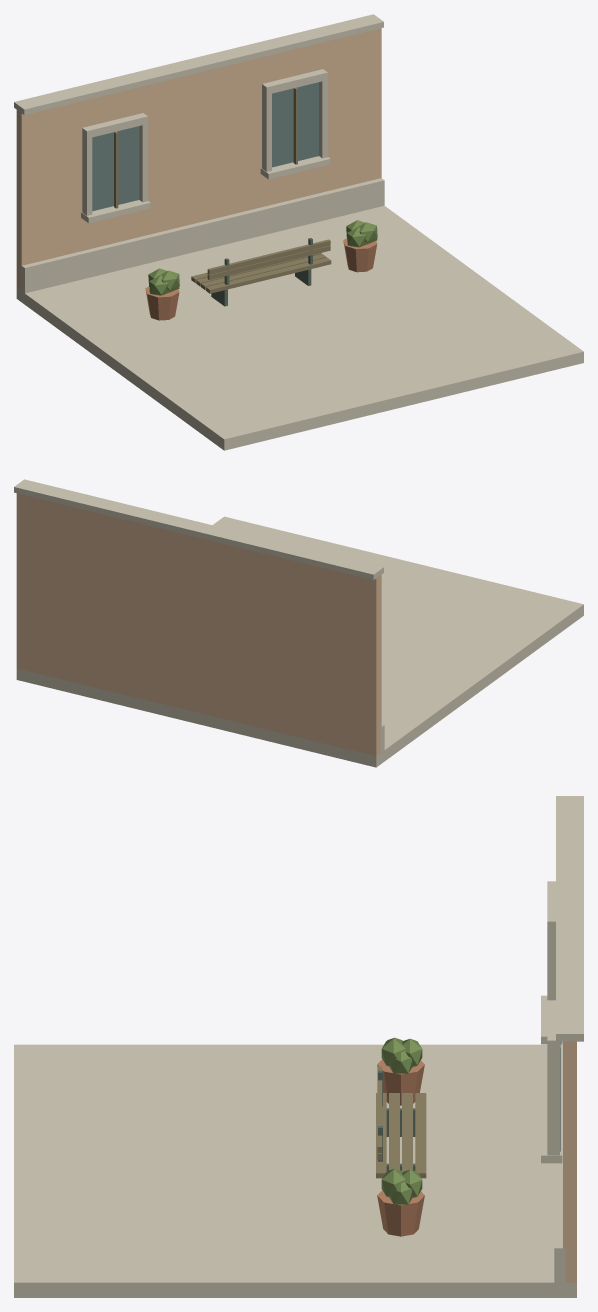
File: district-1-0-1.glb
3 views of the same model, one above another, from view 1: azimuth 30°, elevation 25°; view 2: azimuth 150°, elevation 25°; view 3: azimuth 270°, elevation 25° (orthographic). The views are drawn at different scales.
Visible parts, largest first — view 1: stone.010, plaster.009, glass.004, wood.005, clay.002, leaf.003, metal.003; view 2: plaster.009, stone.010; view 3: stone.010, wood.005, plaster.009, clay.002, leaf.003.
Part boxes in pixels (<box>): stone.010: <box>14,14,583,450</box>; plaster.009: <box>16,28,381,289</box>; glass.004: <box>92,82,318,211</box>; wood.005: <box>114,87,331,293</box>; clay.002: <box>145,238,377,320</box>; leaf.003: <box>148,220,377,295</box>; metal.003: <box>211,238,312,306</box>; plaster.009: <box>16,493,381,756</box>; stone.010: <box>14,479,583,767</box>; stone.010: <box>14,796,583,1297</box>; wood.005: <box>376,1066,426,1178</box>; plaster.009: <box>563,1041,576,1282</box>; clay.002: <box>377,1059,424,1236</box>; leaf.003: <box>381,1037,422,1204</box>.
Size of the model in its own units: 8 by 4.14 by 8.1.
